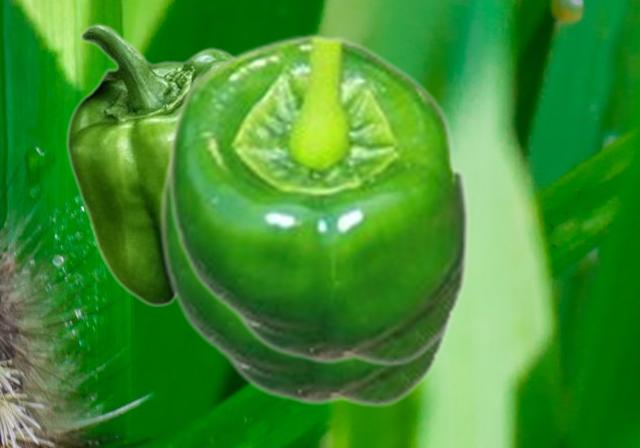bell_pepper: (165, 32, 470, 366), (157, 147, 453, 407), (65, 23, 234, 309)
